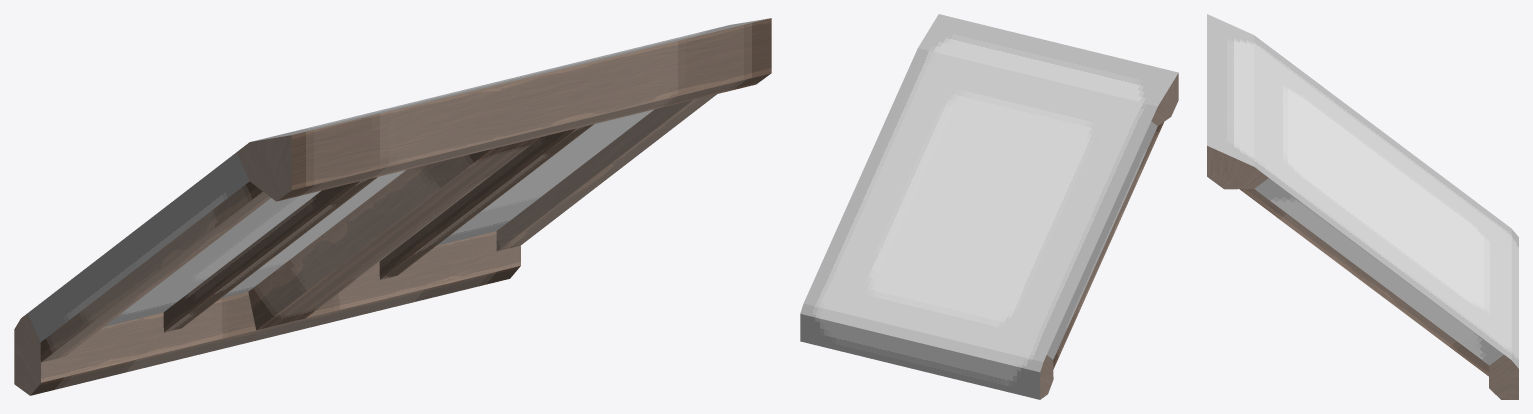
The model's file is SM_Ceiling_Wooden_Edge.fbx.
3 renders of one model, left to right at view 1: azimuth 30°, elevation 25°; view 2: azimuth 150°, elevation 25°; view 3: azimuth 270°, elevation 25°, orthographic. The views are drawn at different scales.
Parts seen in each view (by area): view 1: SM_Ceiling_Wooden_Edge; view 2: SM_Ceiling_Wooden_Edge; view 3: SM_Ceiling_Wooden_Edge.
Part boxes in pixels (x1,y1,x2,y2): SM_Ceiling_Wooden_Edge: (14,18,771,395); SM_Ceiling_Wooden_Edge: (800,14,1178,399); SM_Ceiling_Wooden_Edge: (1207,14,1518,399).
Size of the model in its own units: 500 by 500 by 450.
